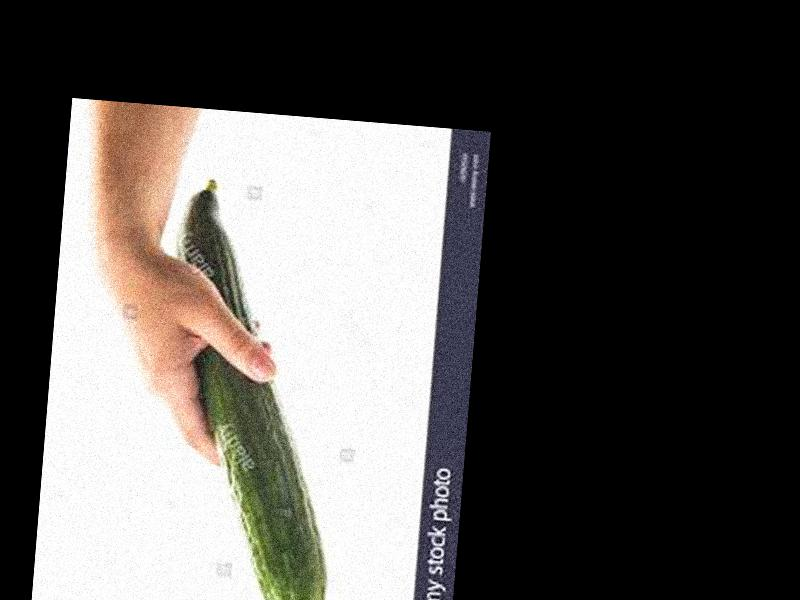Cucumber: (146, 175, 359, 600)
